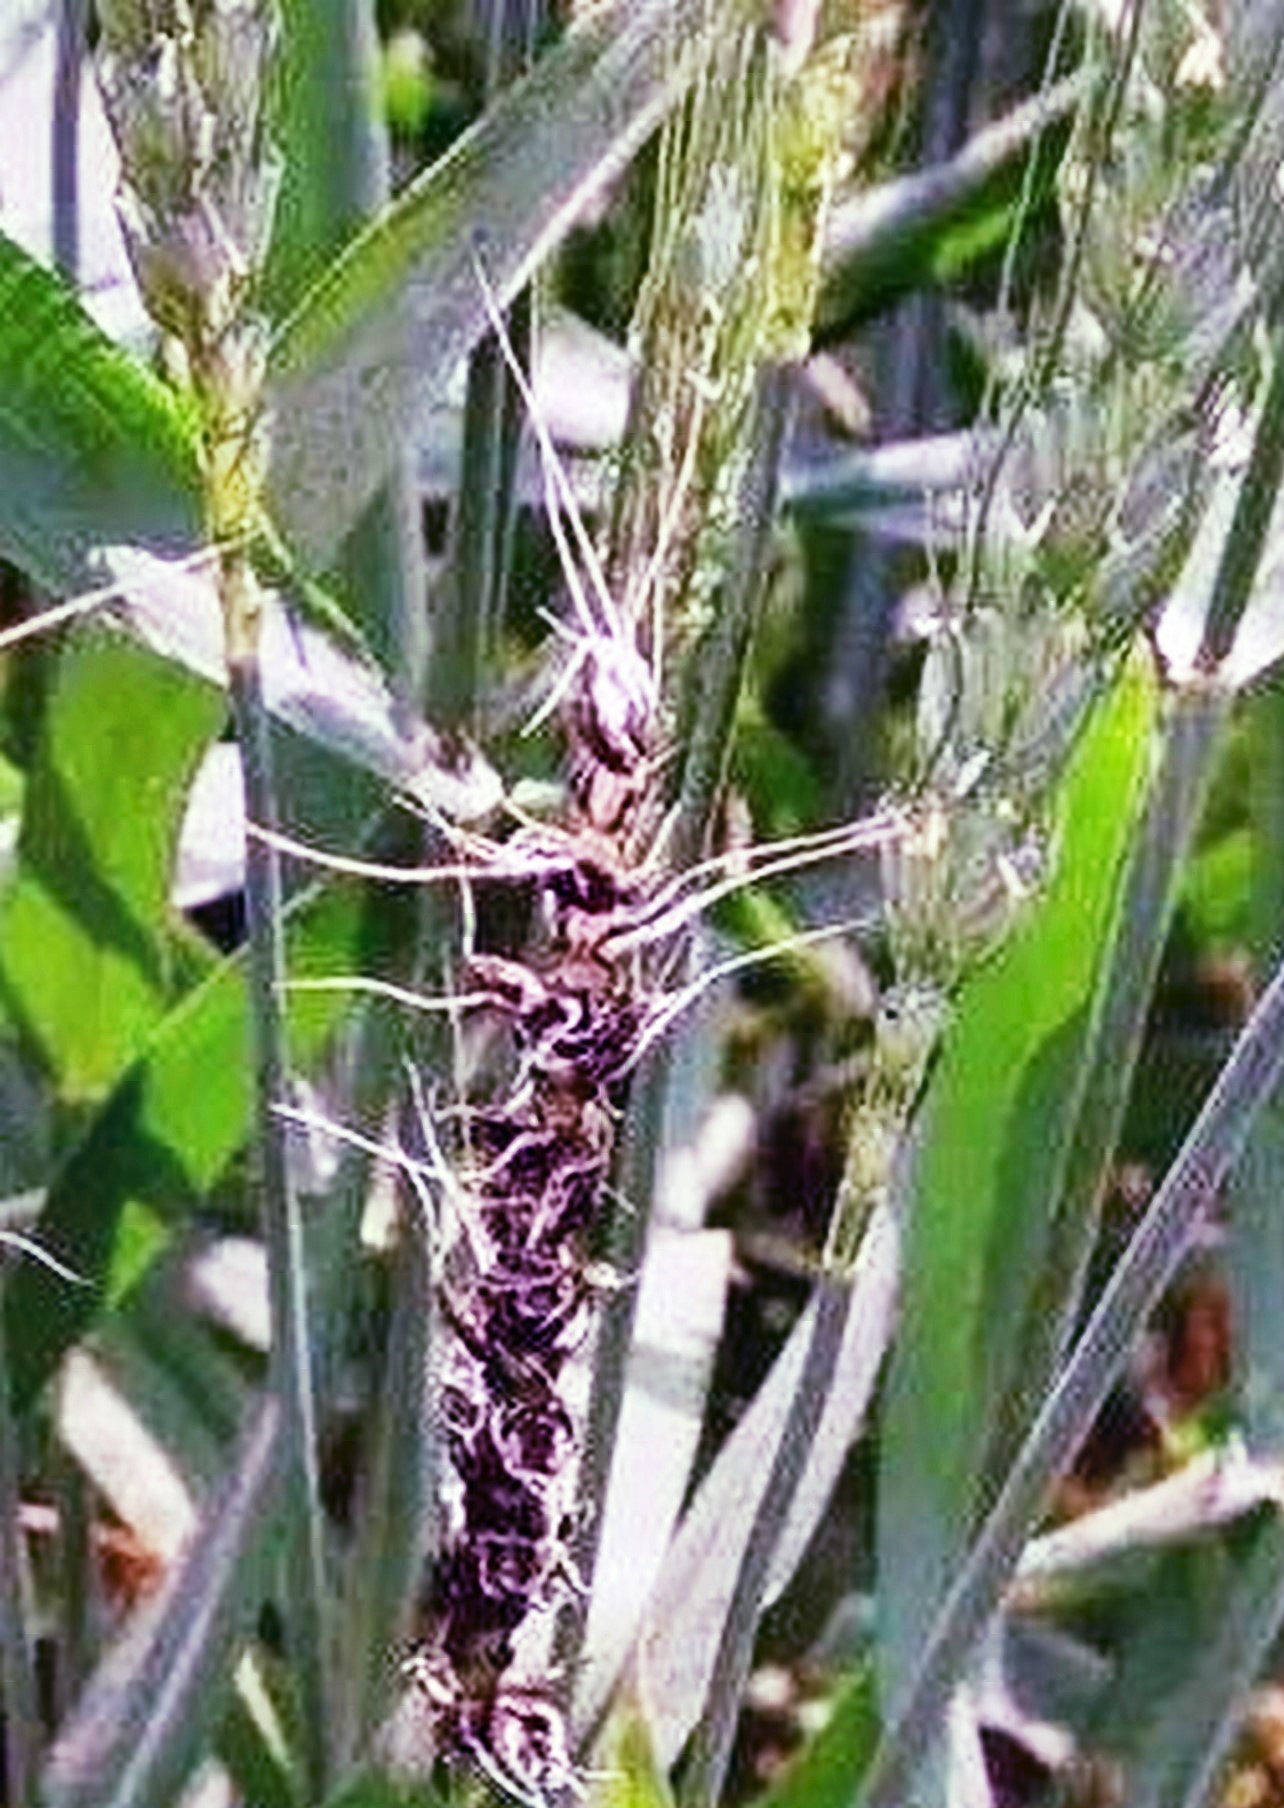Wheat Loose Smut: (354, 812, 771, 1627)
